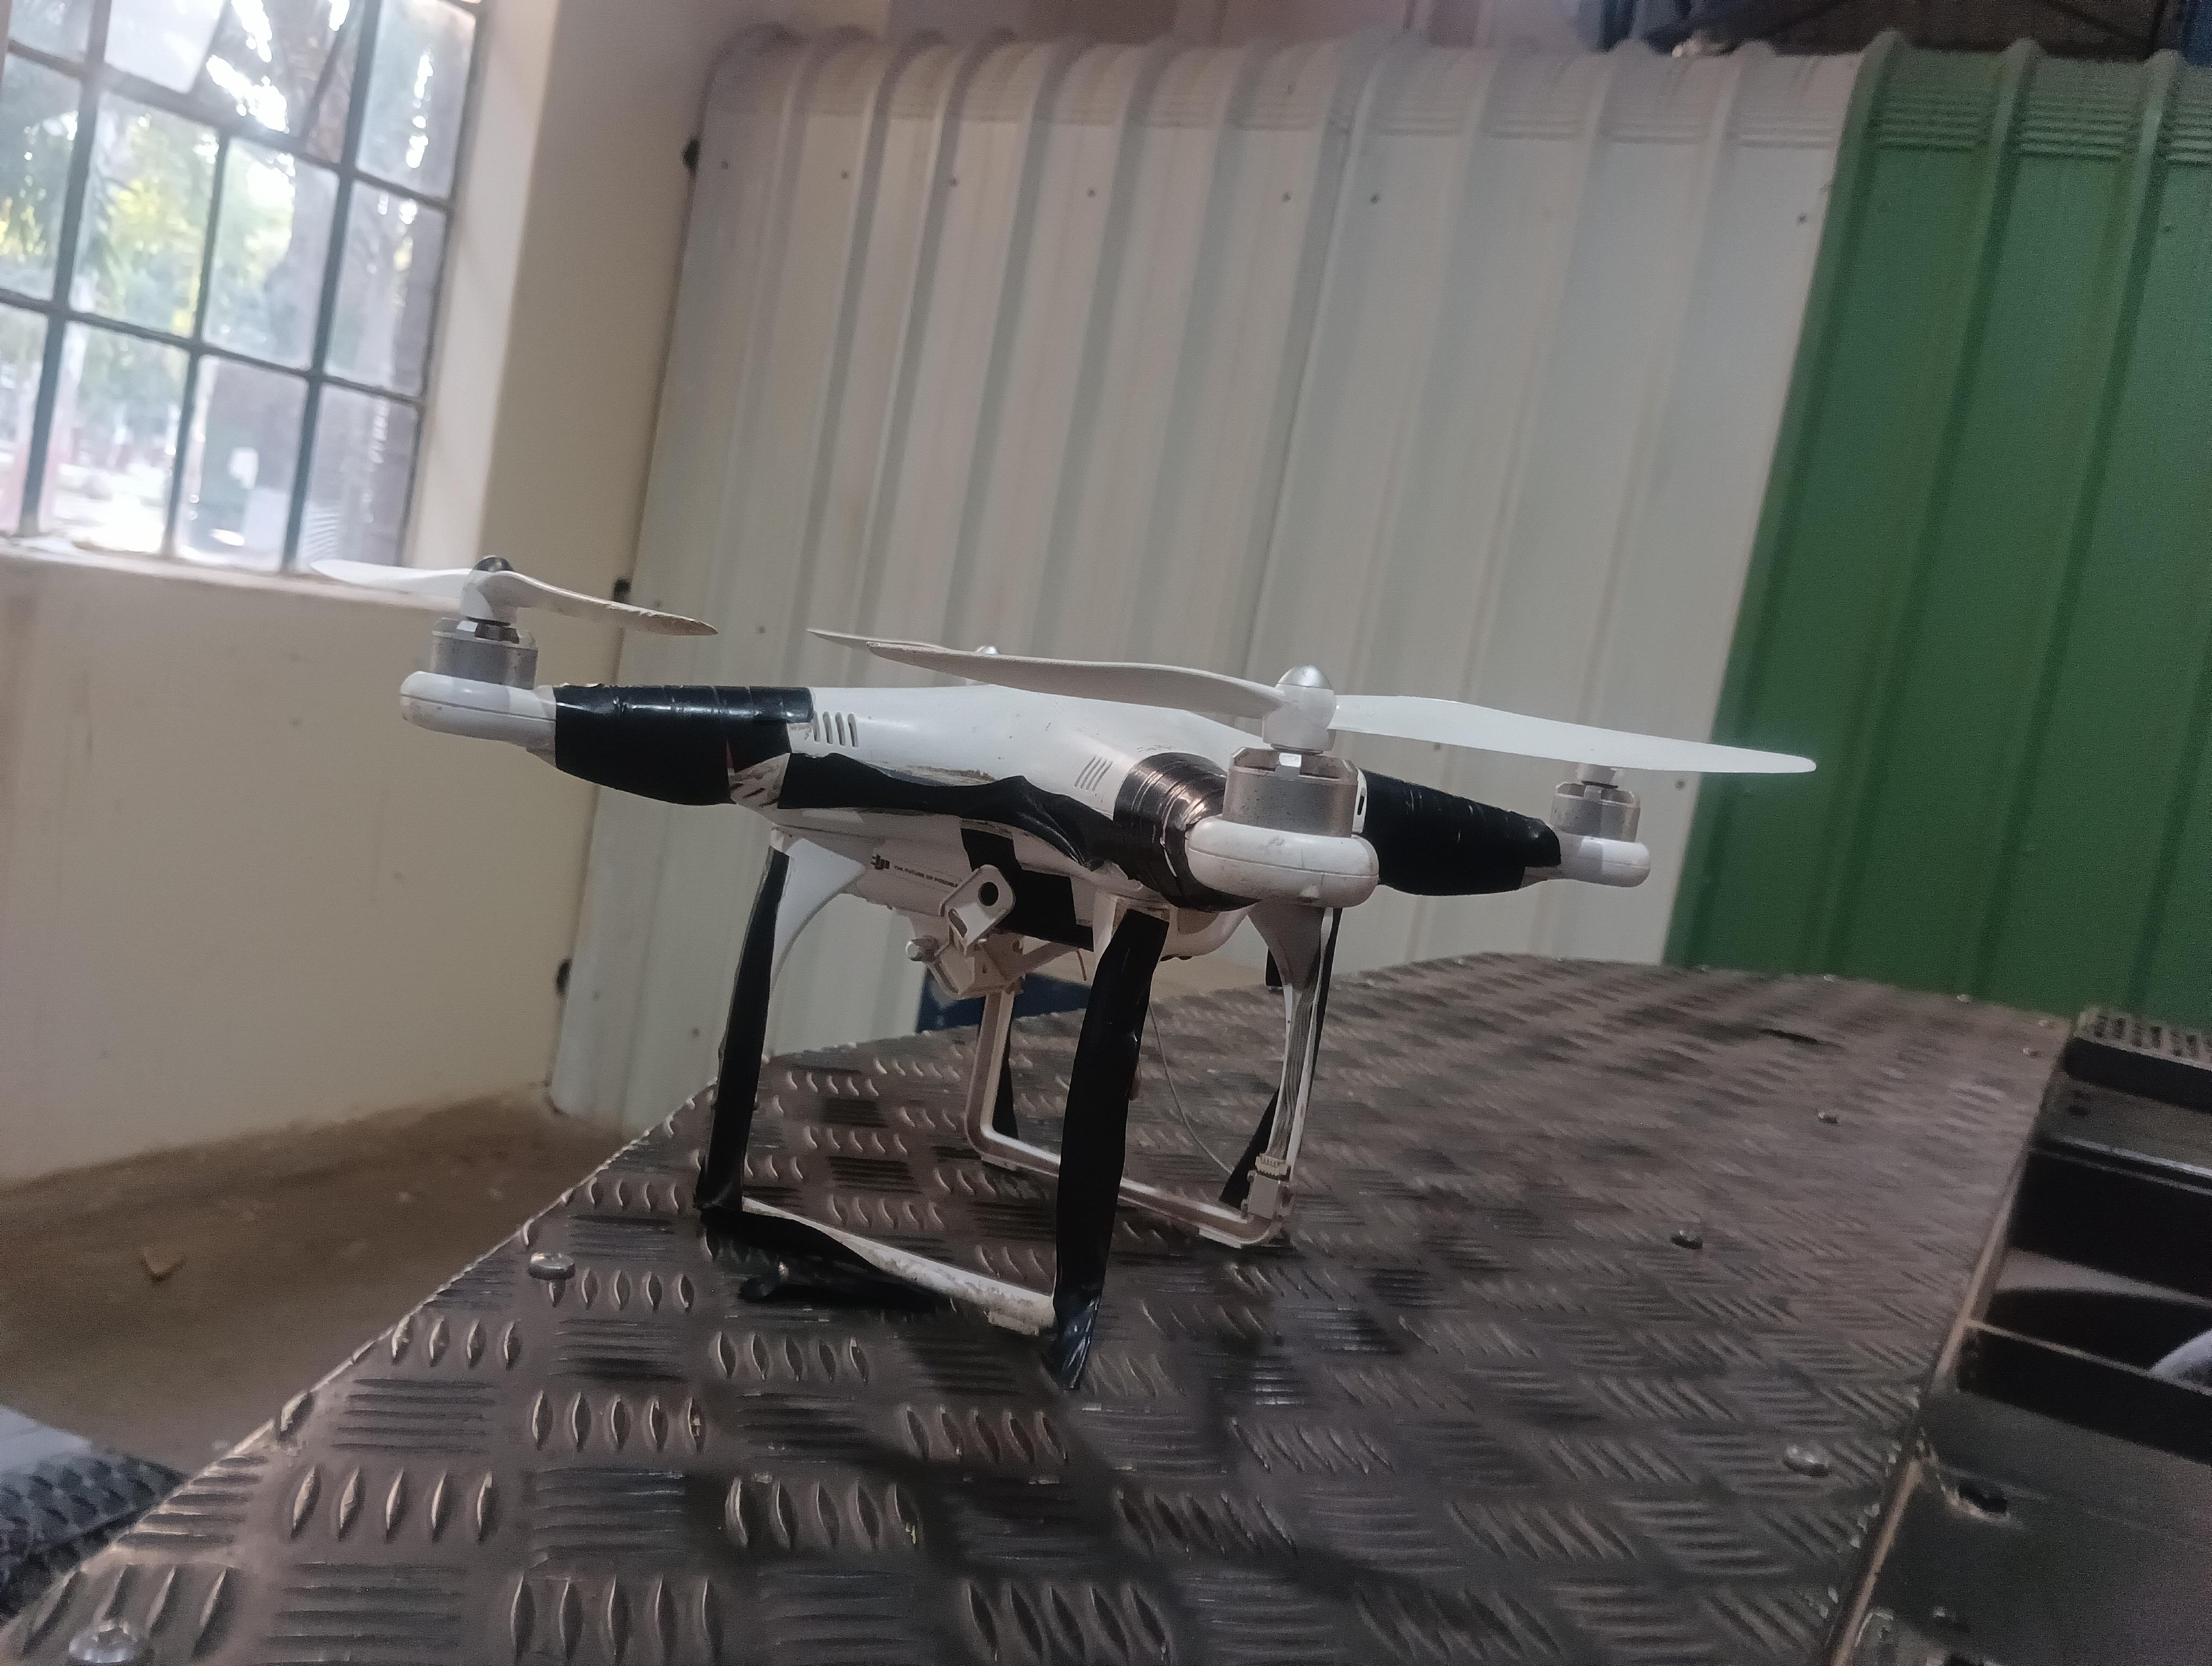drone: (294, 506, 1902, 1419)
